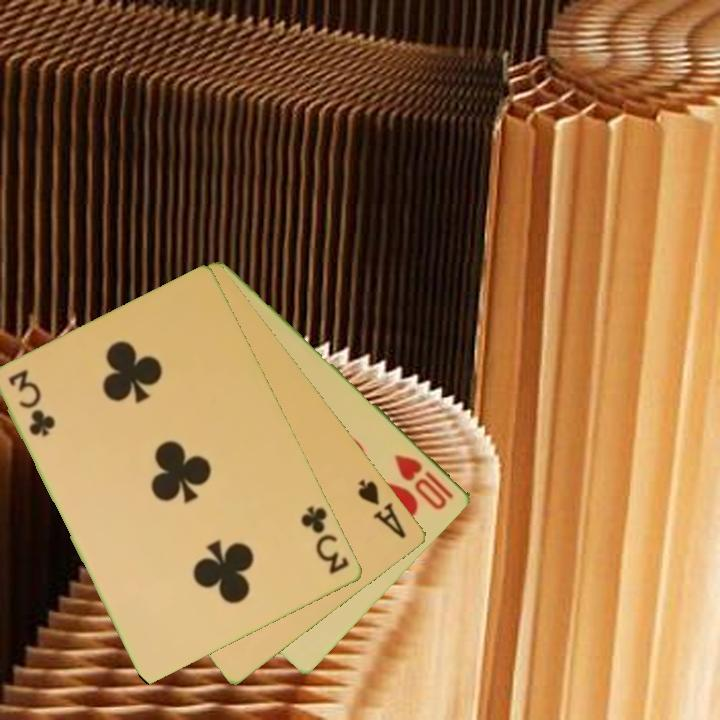10h: (391, 450, 458, 513)
3c: (297, 502, 352, 578), (5, 366, 57, 440)
As: (355, 475, 410, 542)
